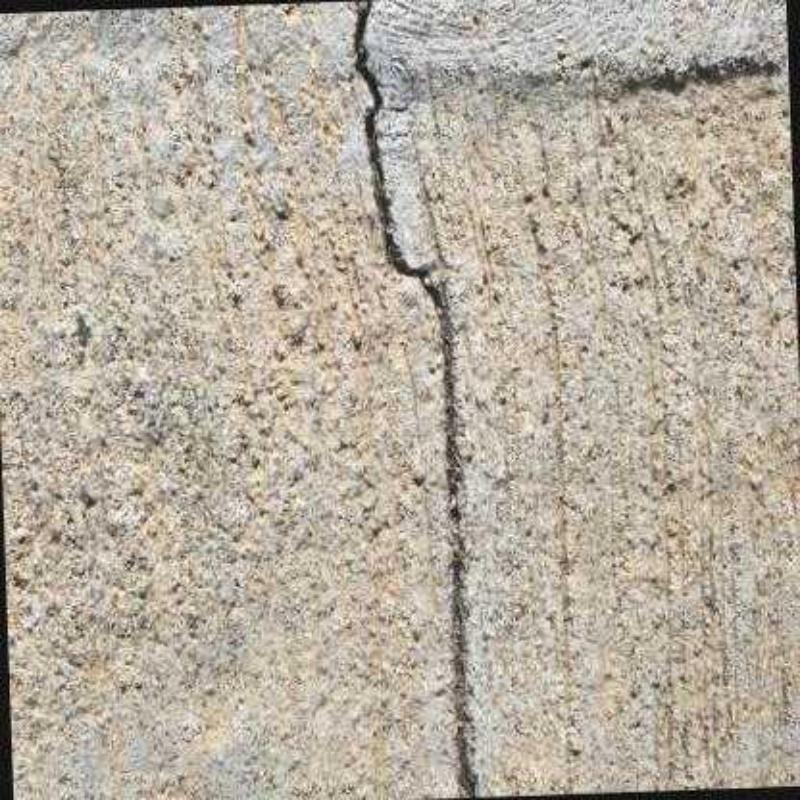pothole: (352, 1, 478, 798)
